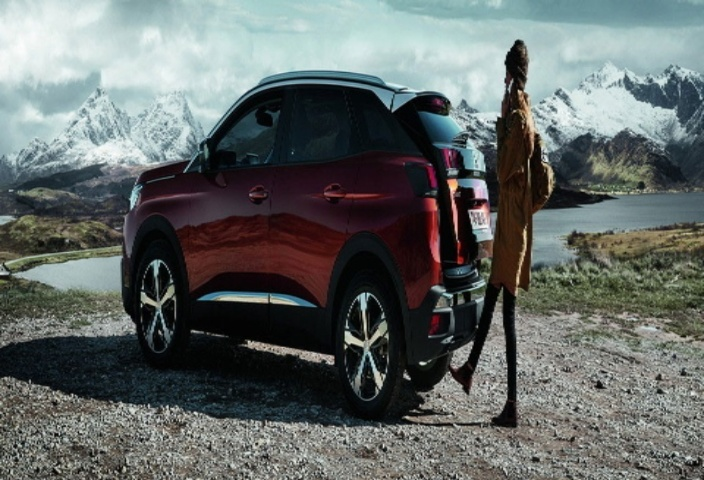camper: (114, 67, 497, 407)
